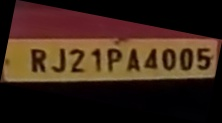character: (68, 47, 85, 73), (30, 47, 46, 73), (106, 46, 121, 73), (50, 48, 66, 72), (125, 48, 140, 72), (143, 48, 158, 71), (161, 47, 176, 70), (179, 47, 193, 71), (196, 47, 210, 70), (90, 48, 102, 73)
